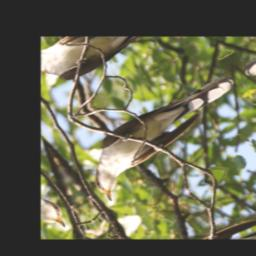Cuckoo: (74, 65, 256, 205)
